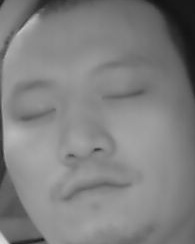blink: (102, 88, 146, 106), (18, 104, 56, 123)
mouth: (63, 175, 129, 207)
